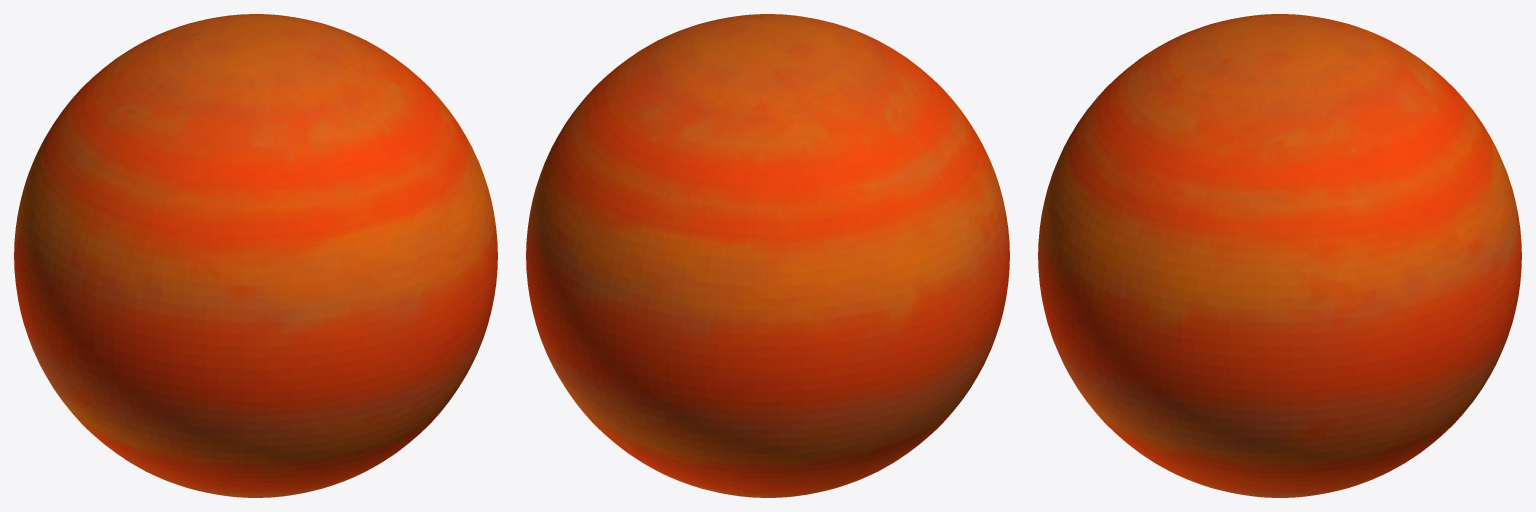
File: neri.glb
3 renders of one model, left to right at view 1: azimuth 30°, elevation 25°; view 2: azimuth 150°, elevation 25°; view 3: azimuth 270°, elevation 25°, orthographic.
Visible parts, largest first — view 1: Sphere; view 2: Sphere; view 3: Sphere.
Boxes of the visible parts, x1,y1,x2,y2 form: Sphere: (14,14,497,497); Sphere: (526,14,1009,497); Sphere: (1038,14,1521,497).
Bounding box in the file's own units: 2 × 2 × 2.
Materials: 1 (1 with a texture image).
